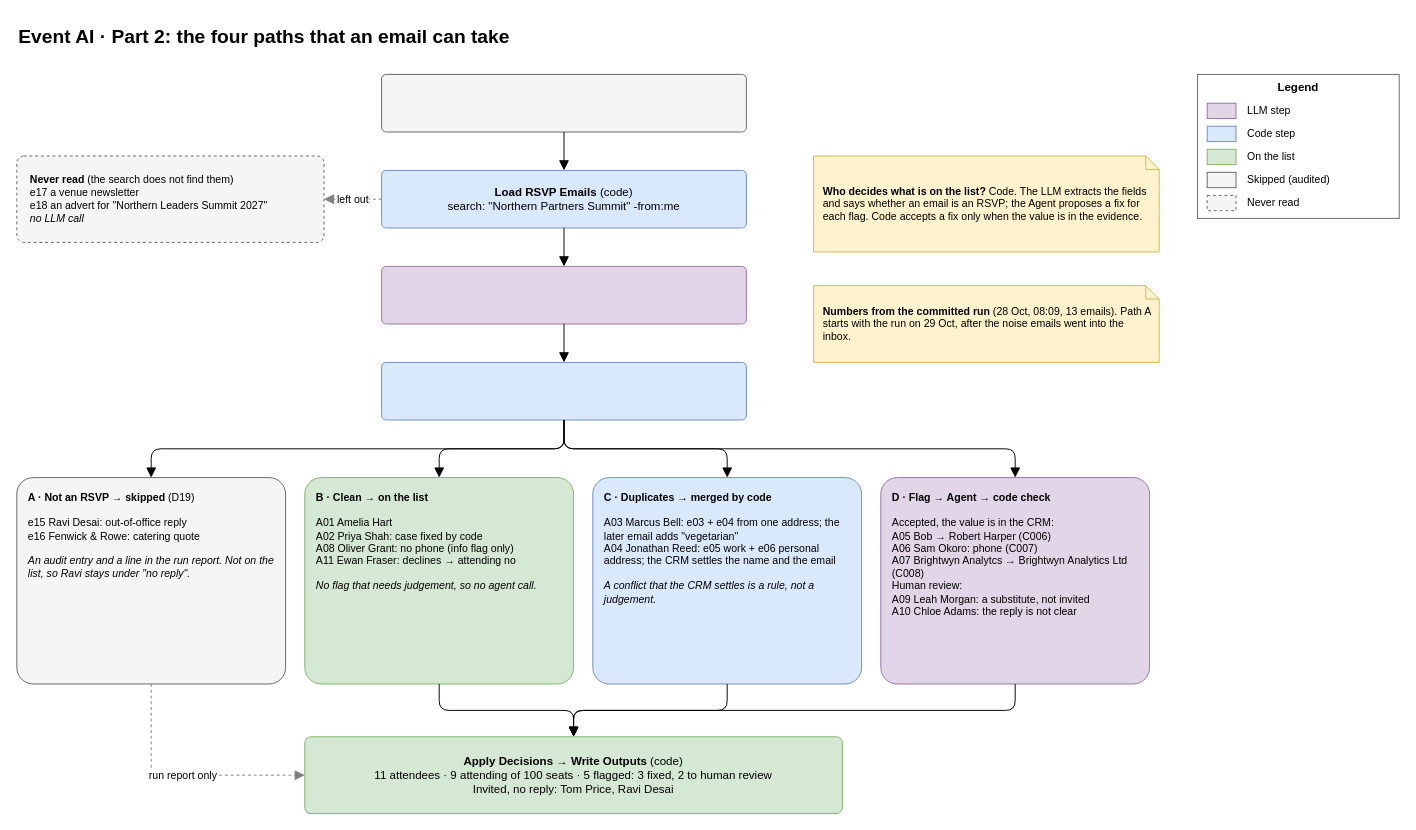
The diagram is 1416 pixels wide and 830 high, and some of its shapes have lost their labels. Each missing label, with the centre of its shape:
"Check Records (code) filter · ground · normalize · dedupe · verify" goes at point (563, 390).
"Extract RSVPs (LLM) one call per email: the fields and is_rsvp" goes at point (563, 294).
"Gmail inbox of the demo account 13 RSVPs, plus 4 other emails from 28 Oct (D19)" goes at point (563, 102).
